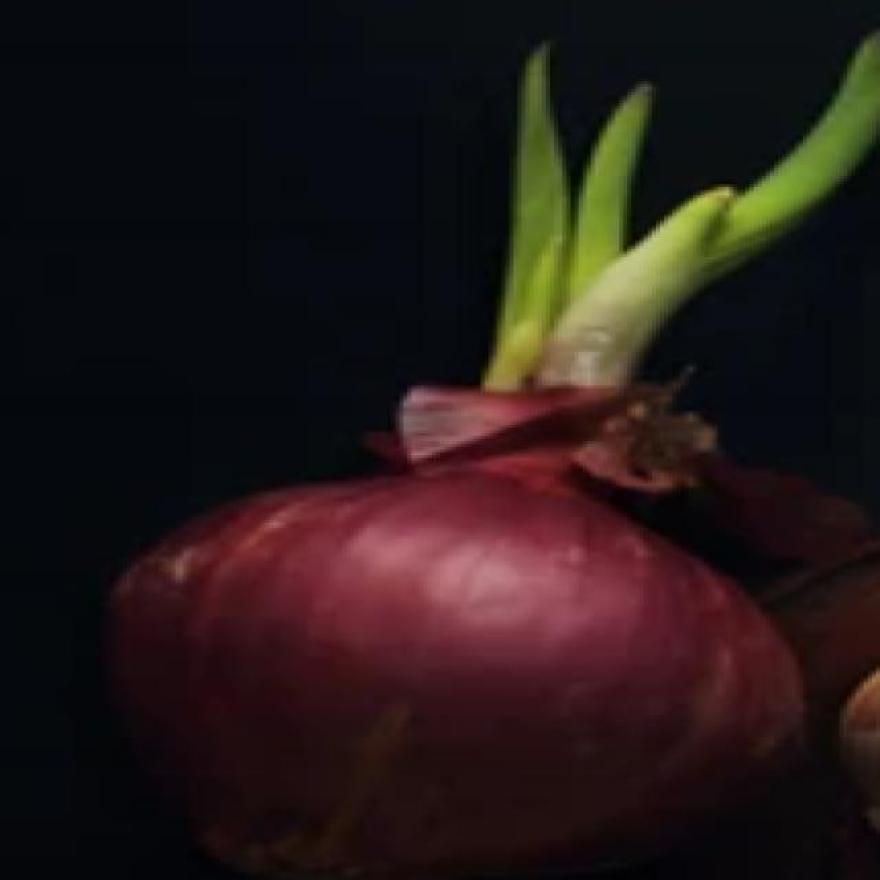Sprouted: (492, 70, 676, 448)
